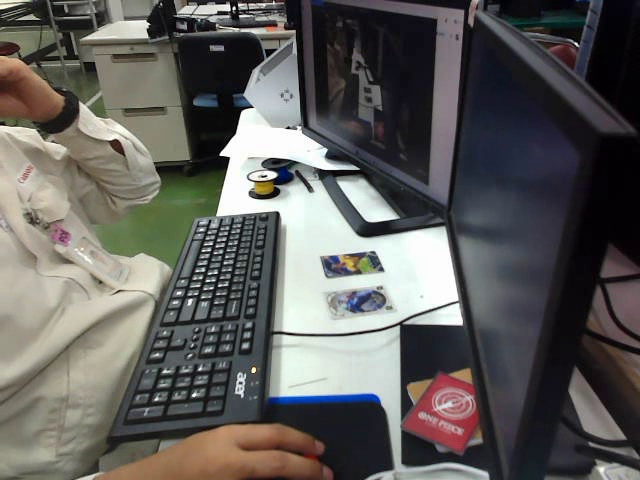can: (317, 277, 395, 317), (311, 242, 386, 276)
